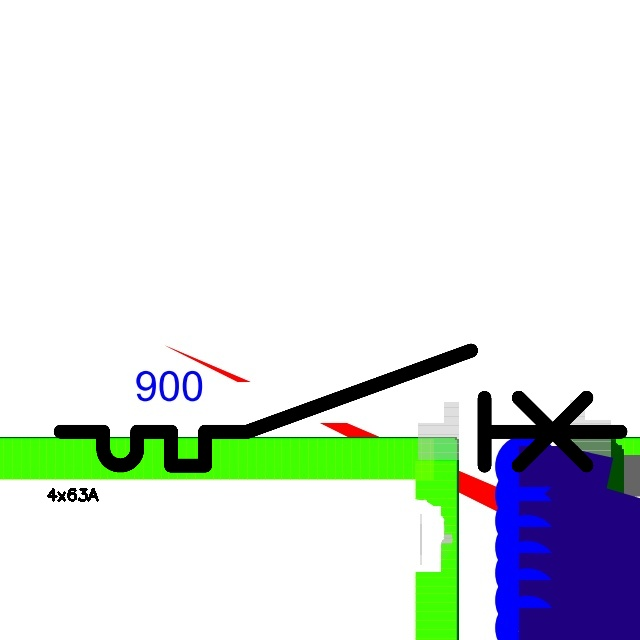interruptor_termomagnetico: (46, 336, 634, 480)
